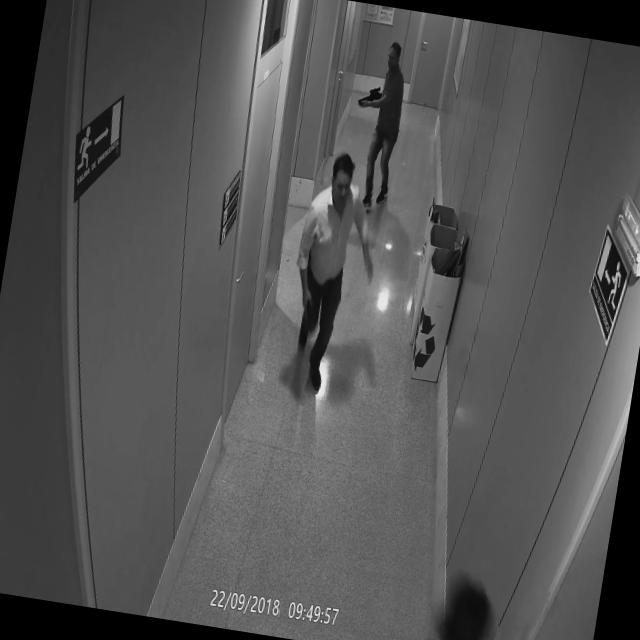gun: (296, 294, 318, 344), (353, 84, 382, 115)
person with a gun: (273, 145, 398, 410), (354, 34, 422, 220)
